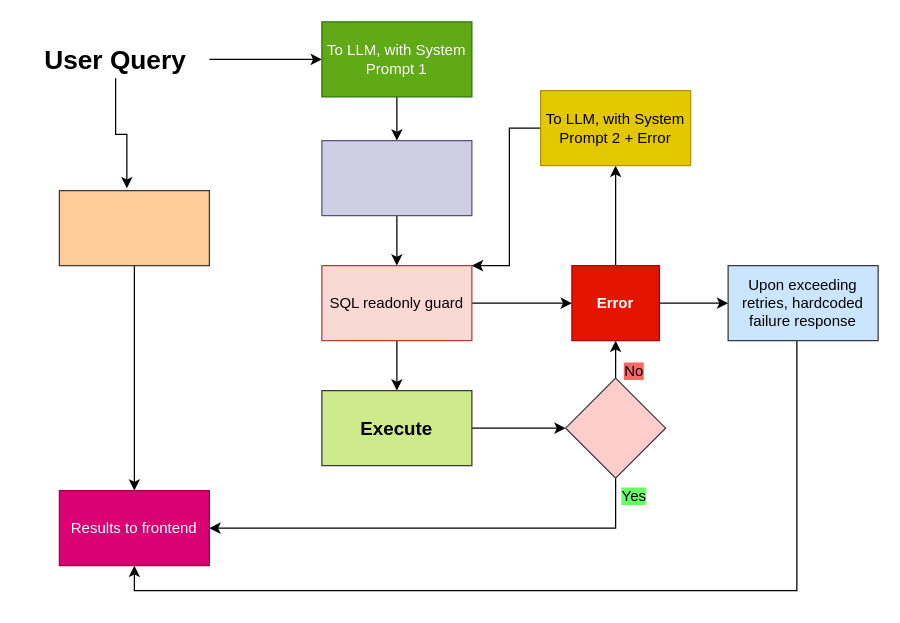
The diagram is 900 pixels wide and 623 high, and some of its shapes have lost their labels. Here are the shapes that lost their labels. From the top down, the centre of each, then its label:
At (396,177): "Select Query".
At (133,227): "Fuzzy Matching on database Row by Row".
At (615,427): "Success ?".
